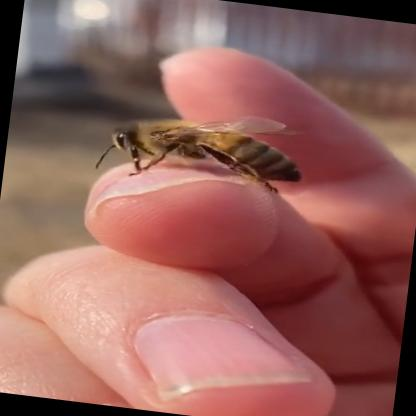bee: (65, 81, 339, 218)
